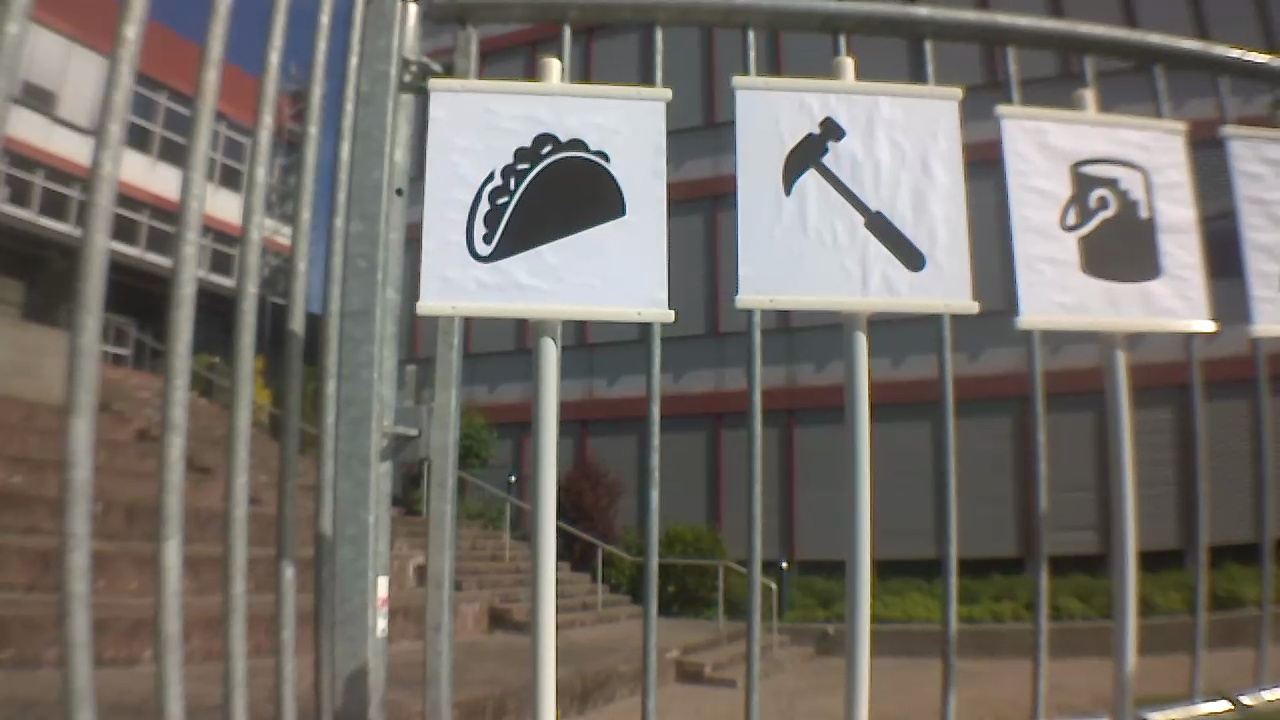bucket: (1053, 145, 1158, 284)
hammer: (770, 120, 939, 273)
taco: (452, 118, 641, 266)
